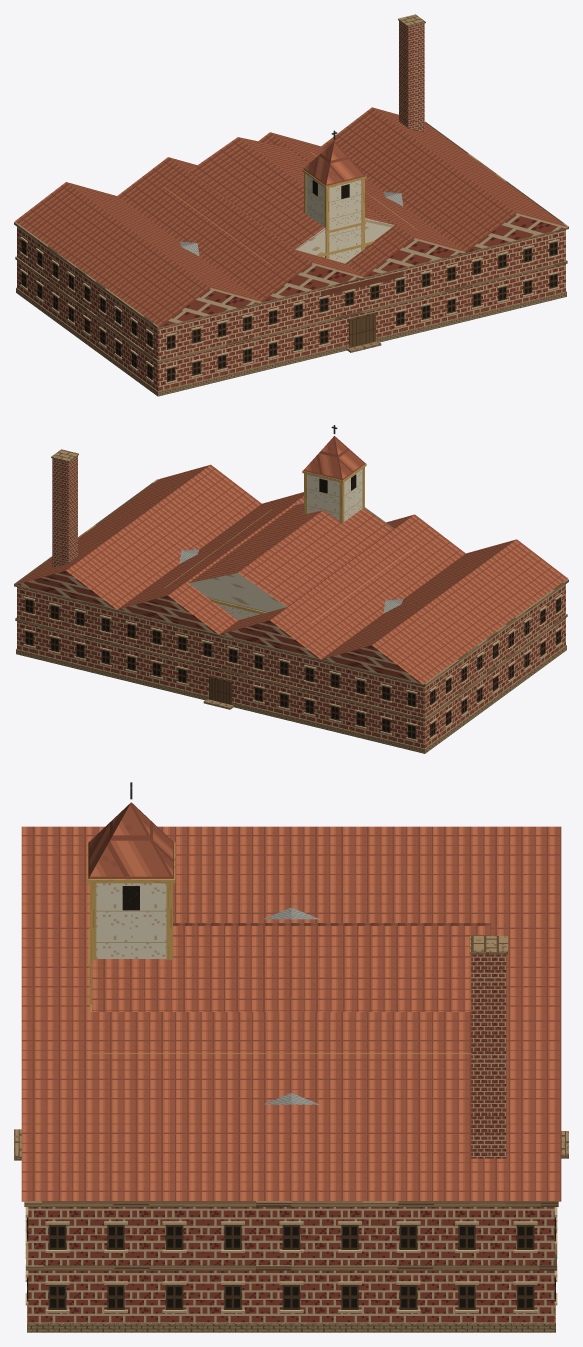
The model's file is buildings-town.glb.
The picture shows the model from 3 angles, top to bottom: view 1: azimuth 30°, elevation 25°; view 2: azimuth 150°, elevation 25°; view 3: azimuth 270°, elevation 25°; orthographic projection. The views are drawn at different scales.
Parts seen in each view (by area): view 1: factory, church; view 2: factory, church; view 3: factory, church, warehouse.
Part boxes in pixels (bbox=[...]): factory: bbox=[14, 14, 568, 396]; church: bbox=[164, 130, 418, 266]; factory: bbox=[14, 449, 568, 753]; church: bbox=[165, 425, 418, 623]; factory: bbox=[14, 826, 568, 1332]; church: bbox=[87, 782, 490, 1053]; warehouse: bbox=[263, 907, 319, 1104].
Bounding box in the file's own units: 40.36 × 18.3 × 25.3.
1 material, 1 textured.
